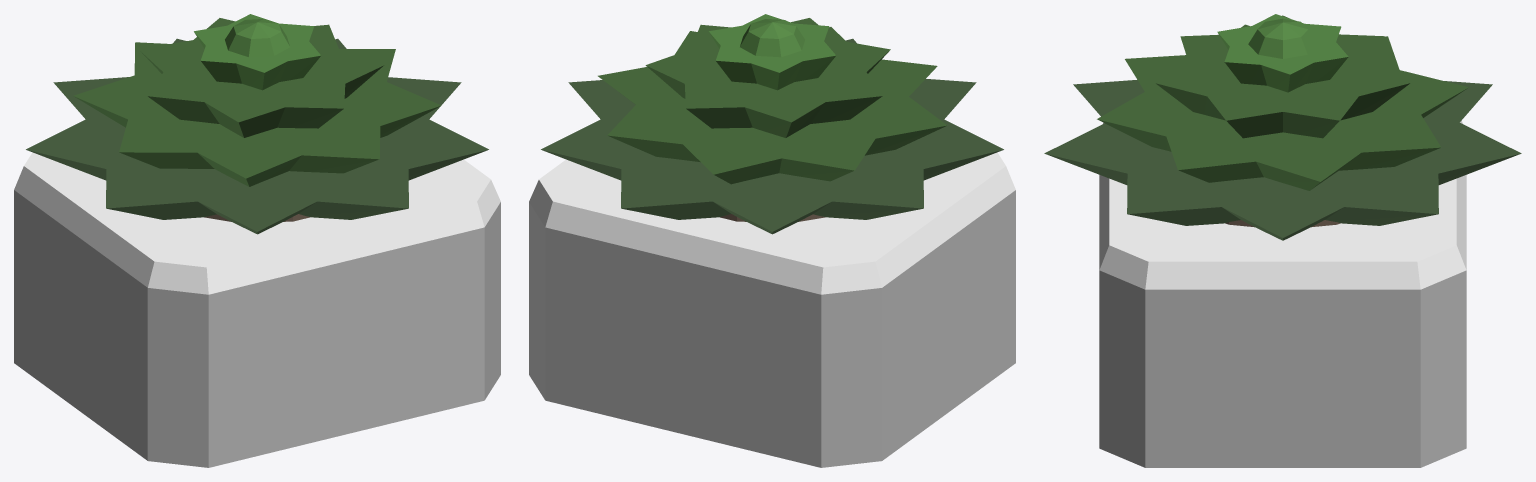
The model's file is vge_faux_plant_b.obj.
The picture shows the model from 3 angles, left to right: view 1: azimuth 30°, elevation 25°; view 2: azimuth 150°, elevation 25°; view 3: azimuth 270°, elevation 25°; orthographic projection. The views are drawn at different scales.
Visible parts, largest first — view 1: vge_faux_plant_b_0, vge_faux_plant_b_1, vge_faux_plant_b_3, vge_faux_plant_b_4, vge_faux_plant_b_5, vge_faux_plant_b_6, vge_faux_plant_b_7; view 2: vge_faux_plant_b_0, vge_faux_plant_b_1, vge_faux_plant_b_3, vge_faux_plant_b_4, vge_faux_plant_b_5, vge_faux_plant_b_6, vge_faux_plant_b_7; view 3: vge_faux_plant_b_0, vge_faux_plant_b_3, vge_faux_plant_b_1, vge_faux_plant_b_4, vge_faux_plant_b_5, vge_faux_plant_b_6, vge_faux_plant_b_7.
Boxes of the visible parts, bbox=[...] form: vge_faux_plant_b_0: bbox=[14, 190, 500, 467]; vge_faux_plant_b_1: bbox=[14, 152, 500, 294]; vge_faux_plant_b_3: bbox=[26, 38, 488, 234]; vge_faux_plant_b_4: bbox=[73, 42, 441, 186]; vge_faux_plant_b_5: bbox=[139, 18, 384, 137]; vge_faux_plant_b_6: bbox=[194, 14, 321, 90]; vge_faux_plant_b_7: bbox=[225, 19, 289, 57]; vge_faux_plant_b_0: bbox=[529, 190, 1015, 467]; vge_faux_plant_b_1: bbox=[529, 152, 1015, 294]; vge_faux_plant_b_3: bbox=[541, 38, 1003, 234]; vge_faux_plant_b_4: bbox=[598, 27, 947, 184]; vge_faux_plant_b_5: bbox=[645, 18, 890, 137]; vge_faux_plant_b_6: bbox=[709, 14, 836, 90]; vge_faux_plant_b_7: bbox=[740, 19, 804, 57]; vge_faux_plant_b_0: bbox=[1099, 270, 1466, 467]; vge_faux_plant_b_3: bbox=[1044, 80, 1521, 240]; vge_faux_plant_b_1: bbox=[1099, 121, 1466, 289]; vge_faux_plant_b_4: bbox=[1097, 24, 1468, 190]; vge_faux_plant_b_5: bbox=[1155, 15, 1410, 138]; vge_faux_plant_b_6: bbox=[1217, 14, 1348, 92]; vge_faux_plant_b_7: bbox=[1248, 18, 1317, 58].
Size of the model in its own units: 0.7177 by 0.6006 by 0.7288.
